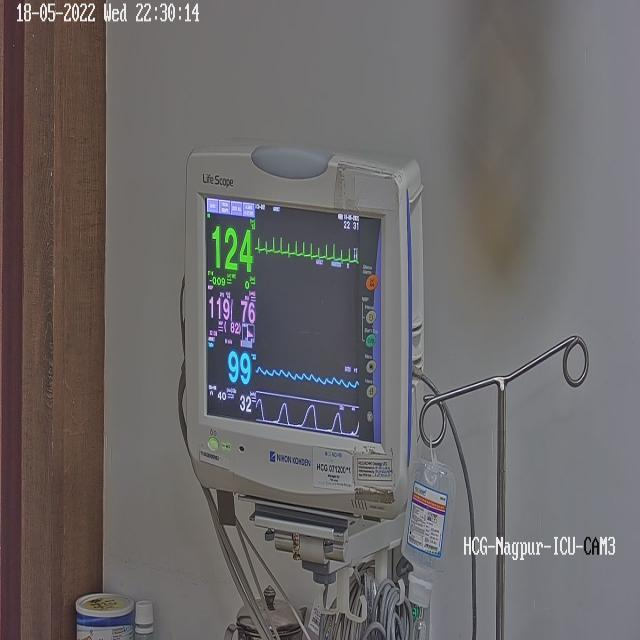Monitor: (181, 142, 422, 638)
Saline Stand: (397, 321, 600, 640)
